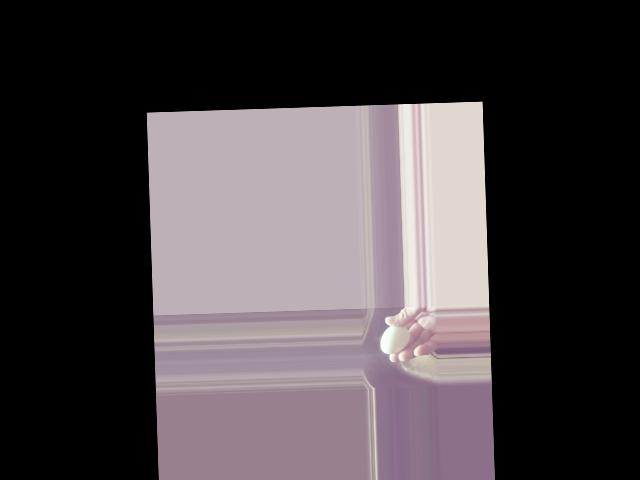egg: (380, 325, 410, 354)
